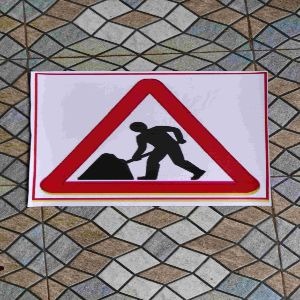men at work: (29, 71, 263, 201)
